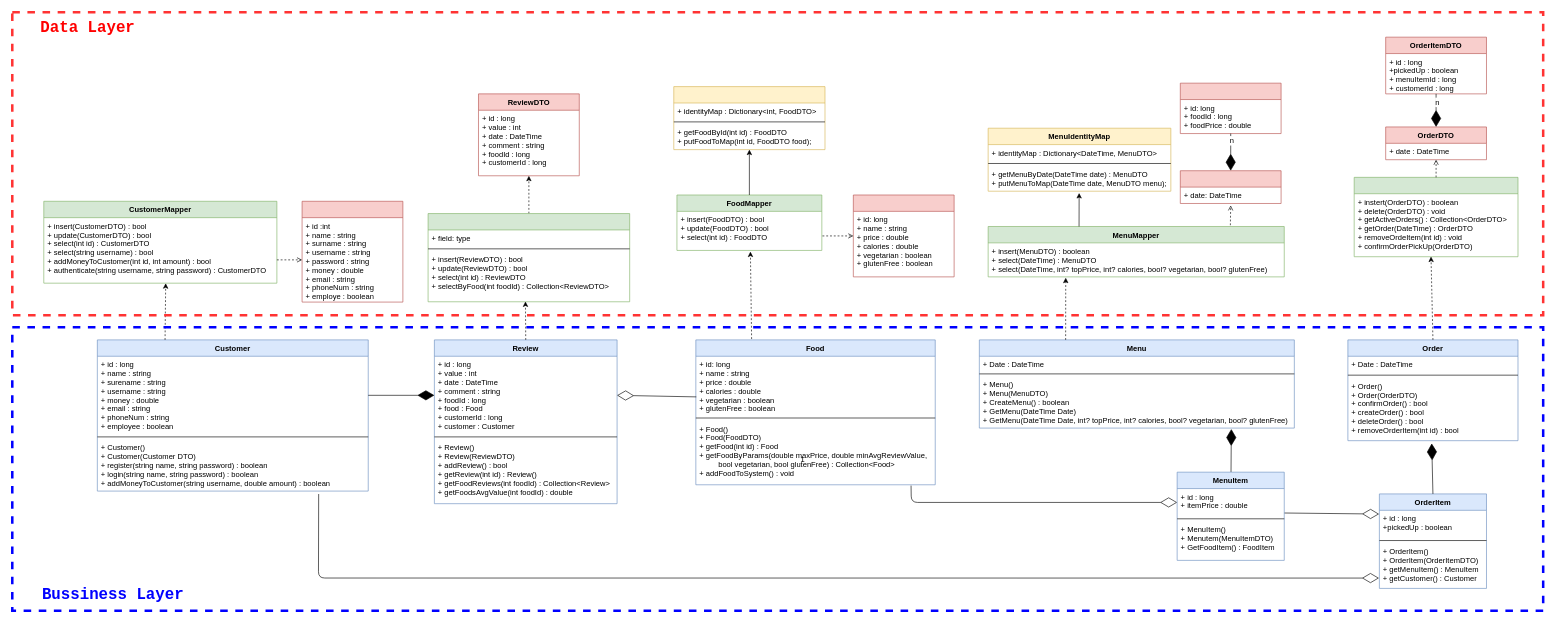
Image size: 1555x622. Some labels were removed from this diagram. Each missing label, with the box of its shape:
CustomerDTO: (301, 201, 403, 302)
FoodDTO: (853, 194, 954, 277)
FoodIdentityMap: (673, 86, 825, 150)
MenuDTO: (1180, 170, 1281, 203)
MenuItemDTO: (1180, 83, 1281, 134)
OrderMapper: (1354, 177, 1518, 257)
ReviewMapper: (427, 213, 630, 302)
